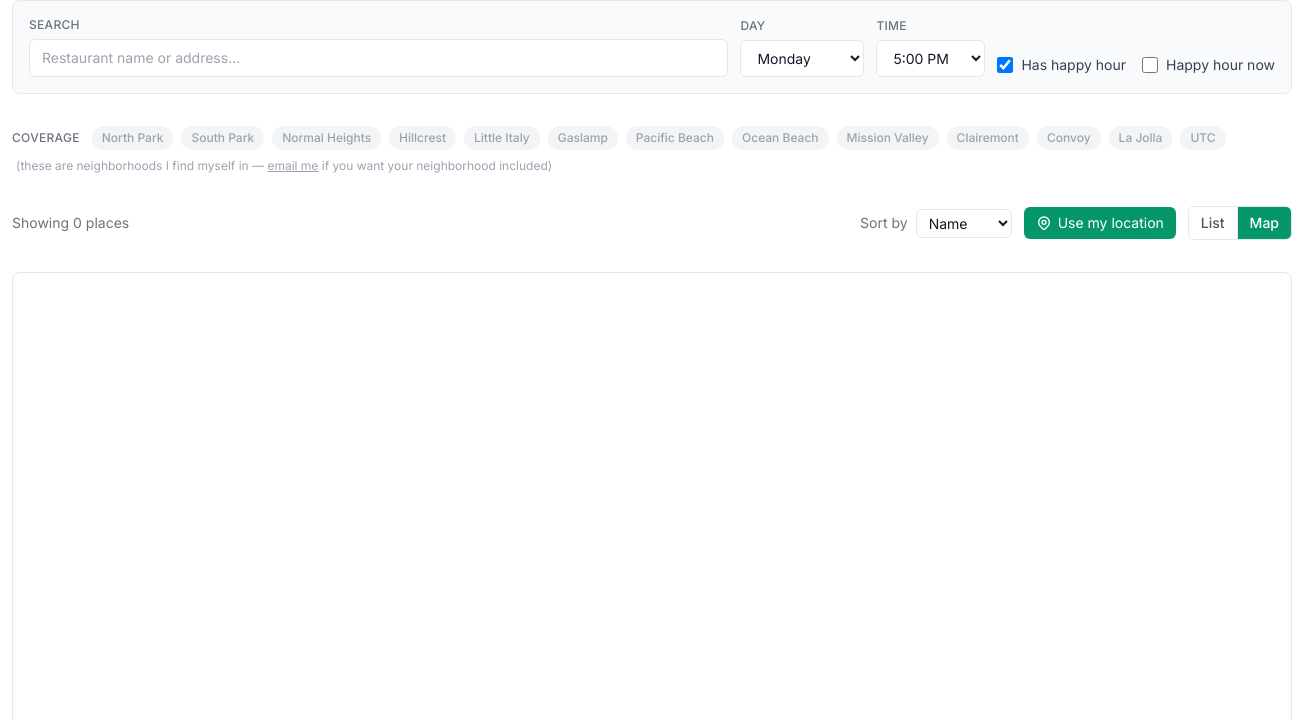
Scenario: RestaurantMap - User location › removes user location marker when location is cleared
The width and height of the screenshot is (1304, 720).
Click the button "Use my location" at point(1100, 223), box [1024,207,1176,239]
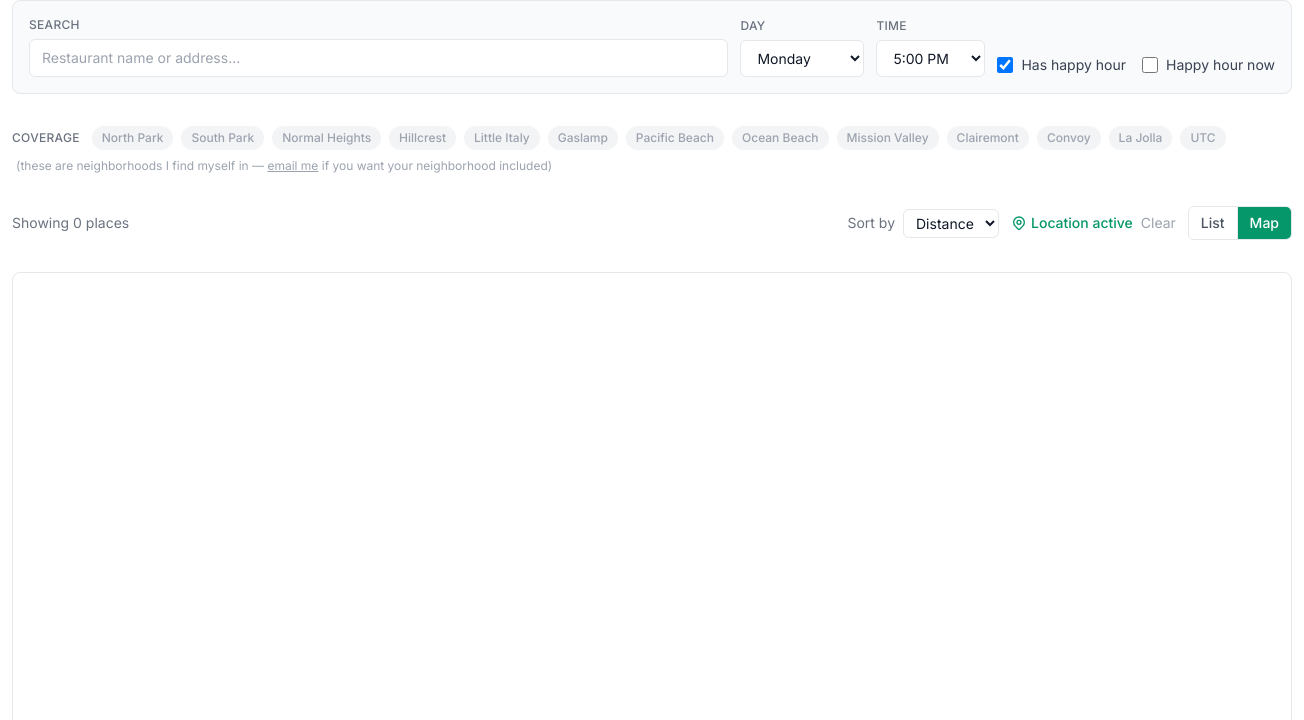
Check: the text "Location active" is shown, box [1011,213,1133,233]
Click the button "Clear" at point(1158, 223), box [1141,213,1176,233]
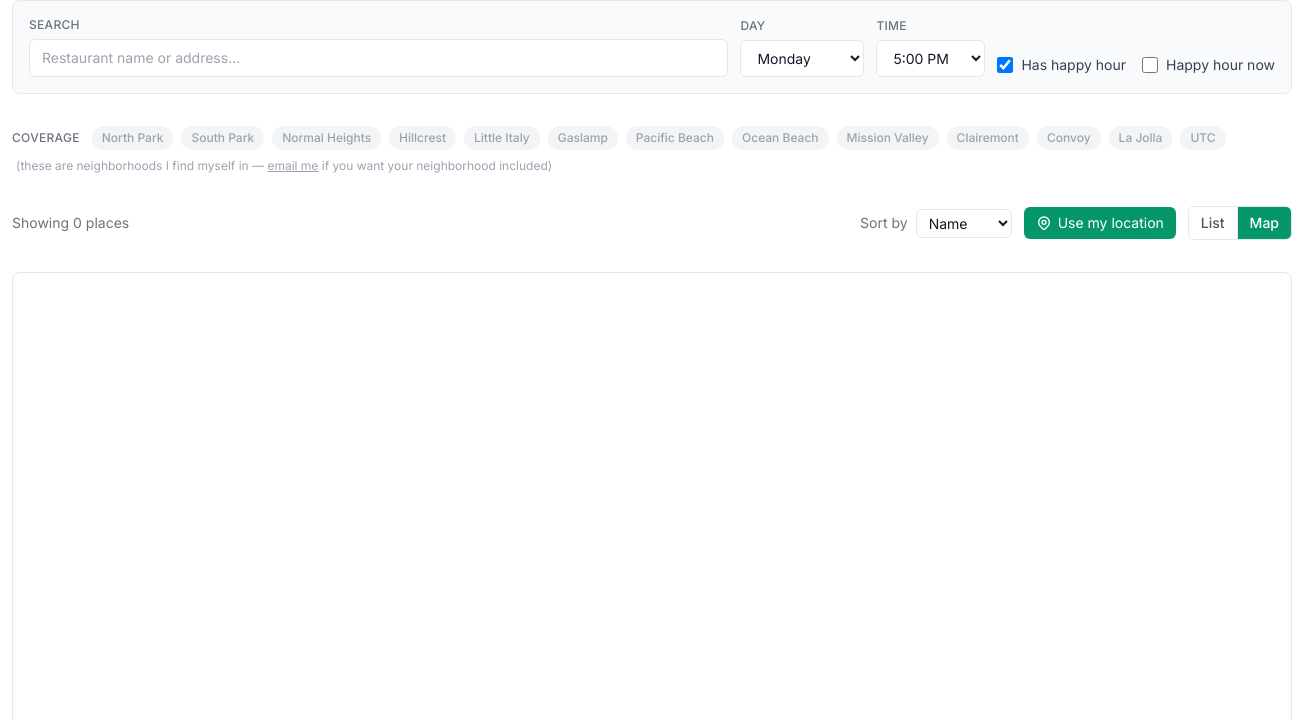
Check: the text "Location active" is gone
